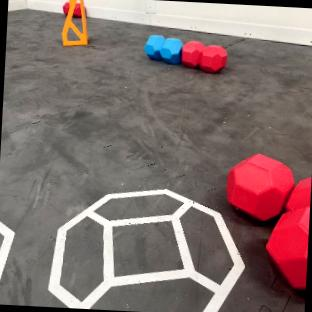V5_BLUE: (144, 35, 181, 63)
V5_RED: (267, 178, 311, 287), (226, 153, 293, 219), (181, 41, 226, 71), (74, 2, 80, 17)
